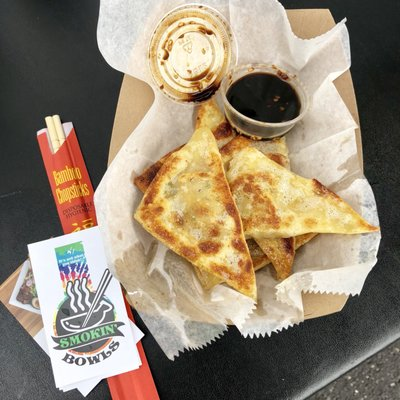curry: (4, 2, 388, 400)
sandwich: (133, 108, 257, 301)
